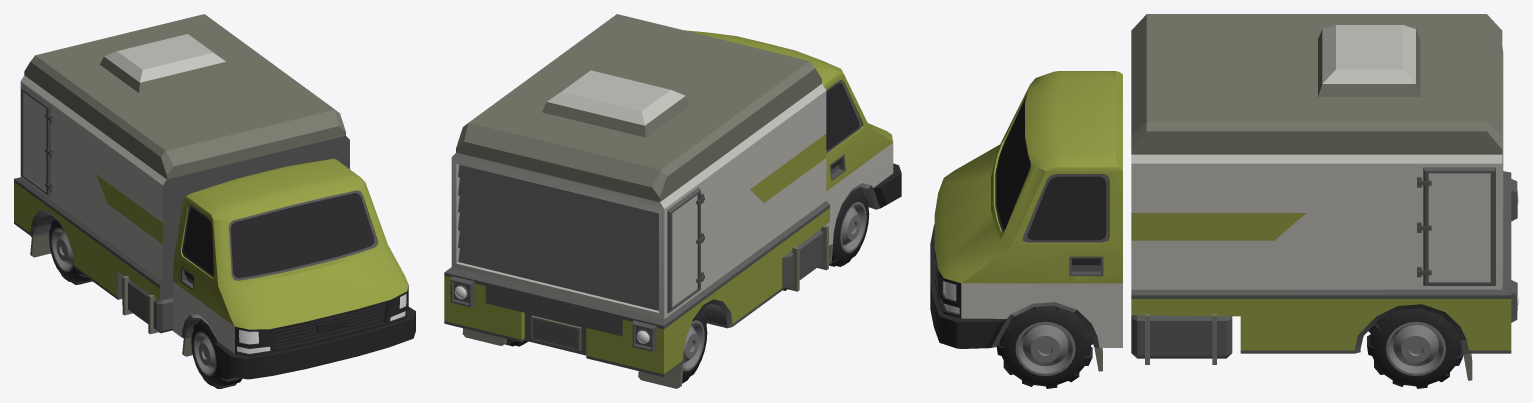
The model's file is quaternius-zombie-apocalypse-kit-march-vehicle-truck.glb.
3 views of the same model, side by side, from view 1: azimuth 30°, elevation 25°; view 2: azimuth 150°, elevation 25°; view 3: azimuth 270°, elevation 25° (orthographic). The views are drawn at different scales.
Parts seen in each view (by area): view 1: Truck; view 2: Truck; view 3: Truck.
Boxes of the visible parts, x1=… form: Truck: x1=14, y1=14, x2=415, y2=388; Truck: x1=444, y1=14, x2=901, y2=388; Truck: x1=930, y1=14, x2=1518, y2=388.
Size of the model in its own units: 2.71 by 2.88 by 5.26.
Materials: 2 (1 with a texture image).
